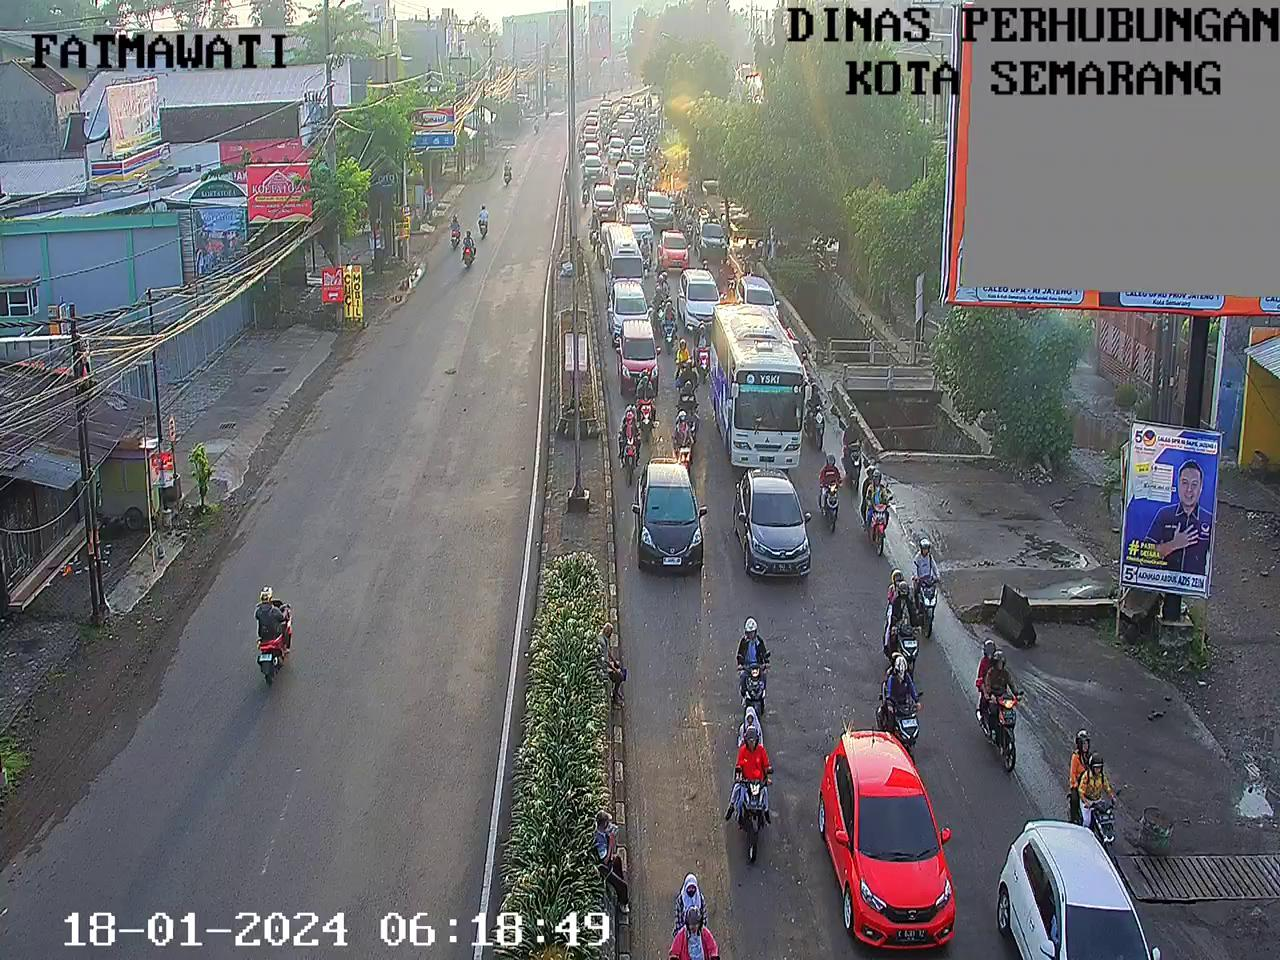bus: (709, 299, 813, 468)
car: (806, 723, 965, 957), (994, 804, 1165, 960), (723, 467, 829, 586), (634, 451, 708, 577), (610, 316, 667, 393), (591, 219, 648, 290), (730, 265, 785, 325), (602, 278, 655, 338), (677, 267, 720, 333), (690, 217, 738, 264), (616, 196, 654, 247), (656, 228, 692, 268), (643, 188, 676, 231), (590, 182, 616, 219), (578, 153, 602, 184), (598, 224, 616, 263), (614, 160, 637, 191), (628, 133, 647, 162), (609, 136, 624, 162), (614, 116, 637, 130), (584, 126, 600, 139), (632, 100, 648, 113), (601, 100, 613, 116), (619, 96, 630, 113), (587, 112, 598, 128), (586, 142, 597, 153)
motorcycle: (968, 635, 1028, 775), (732, 702, 781, 860), (863, 648, 932, 759), (1065, 723, 1122, 840), (664, 864, 721, 960), (876, 565, 926, 672), (730, 607, 772, 715), (914, 536, 945, 637), (816, 448, 850, 530), (865, 468, 895, 557), (612, 401, 643, 487), (842, 409, 869, 492), (668, 404, 697, 469), (634, 369, 658, 439), (809, 379, 828, 456), (675, 378, 703, 430), (650, 268, 673, 330), (694, 321, 716, 380), (672, 336, 694, 390), (659, 297, 681, 350), (636, 230, 658, 275), (719, 258, 741, 292), (584, 209, 602, 249), (713, 271, 732, 302), (578, 174, 593, 209), (635, 175, 648, 204), (673, 192, 683, 226), (683, 213, 696, 239), (613, 176, 622, 209), (799, 348, 810, 373), (623, 183, 635, 203), (659, 166, 670, 187), (641, 162, 655, 175), (647, 175, 659, 191), (698, 204, 710, 220), (702, 254, 711, 275), (577, 134, 583, 160), (648, 143, 657, 158), (653, 118, 659, 138), (601, 164, 610, 177), (688, 195, 695, 211), (646, 91, 653, 107), (642, 113, 649, 127), (645, 128, 652, 142), (635, 124, 642, 136), (601, 127, 607, 139), (603, 113, 609, 124)
